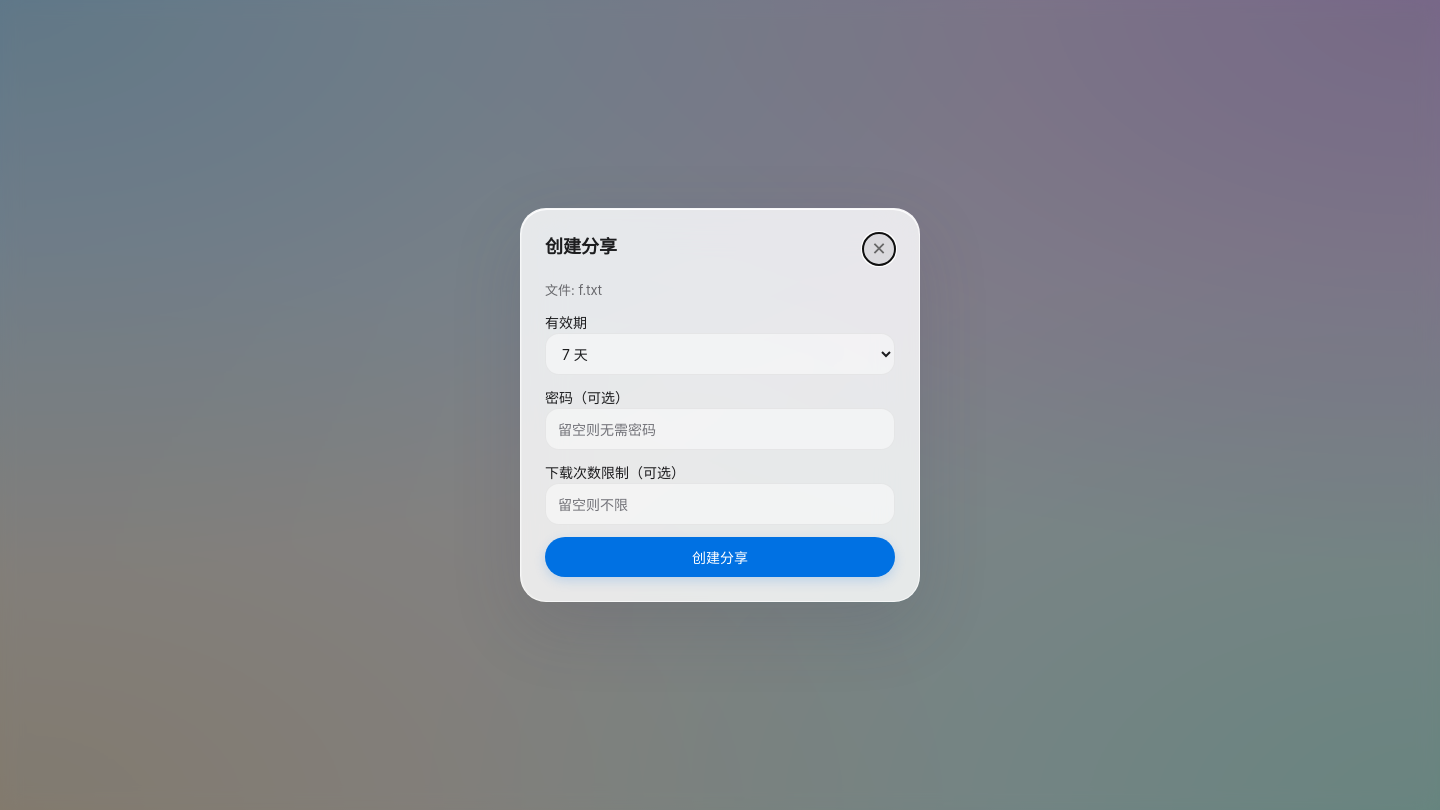
Test: CreateShareDialog › 创建失败展示错误提示并留在表单
The width and height of the screenshot is (1440, 810).
Click the button "创建分享". click: (720, 557)
box: x1=545 y1=537 x2=895 y2=577
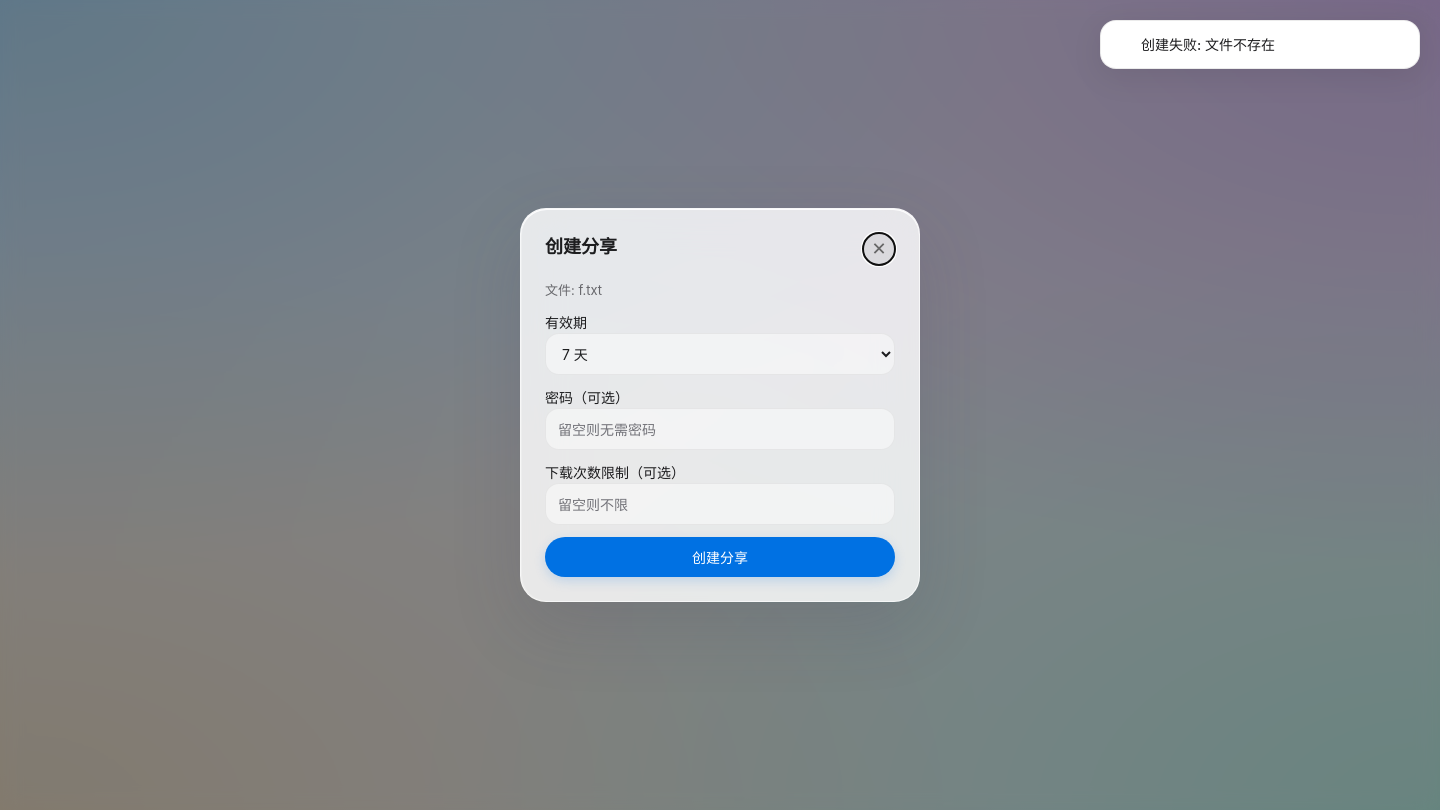
Result: the text "创建失败: 文件不存在" is shown at x1=1141 y1=36 x2=1275 y2=53
